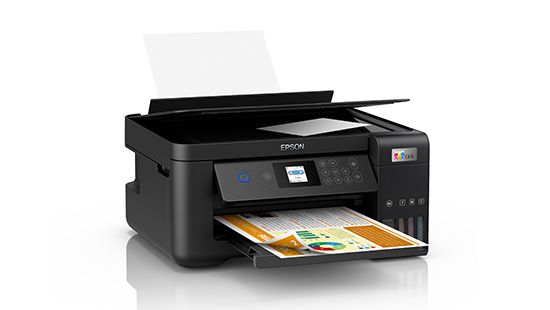printer: (123, 30, 433, 270)
